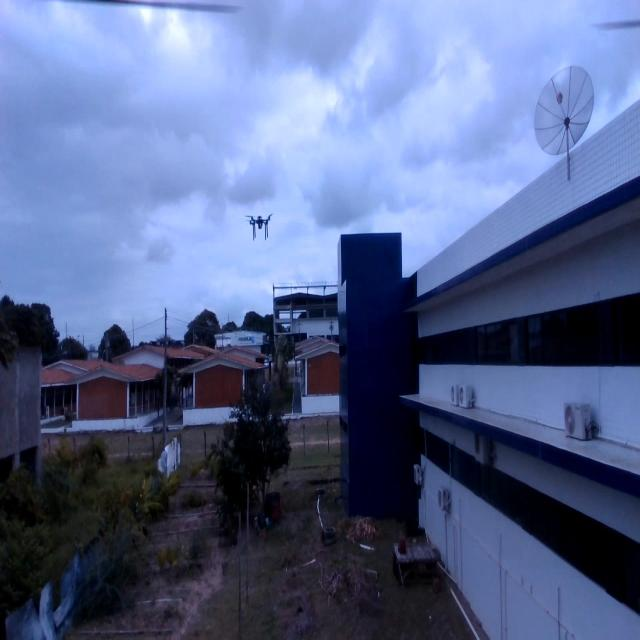-uav-: (241, 204, 279, 249)
